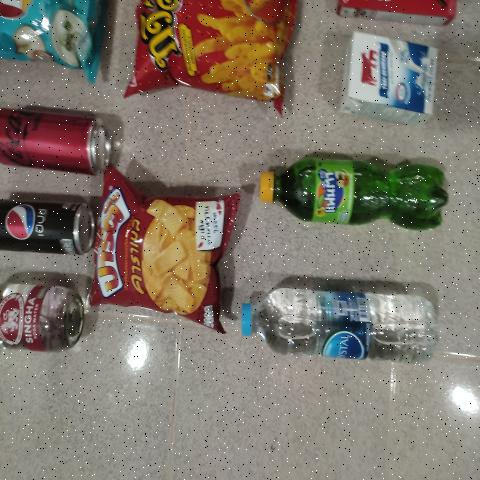coke_red: (0, 100, 107, 167)
crystal: (242, 276, 442, 376)
fanta_green: (256, 147, 453, 239)
party_red: (99, 185, 223, 319)
pepsi_black: (0, 196, 96, 256)
thai_denmark: (347, 32, 440, 127)
